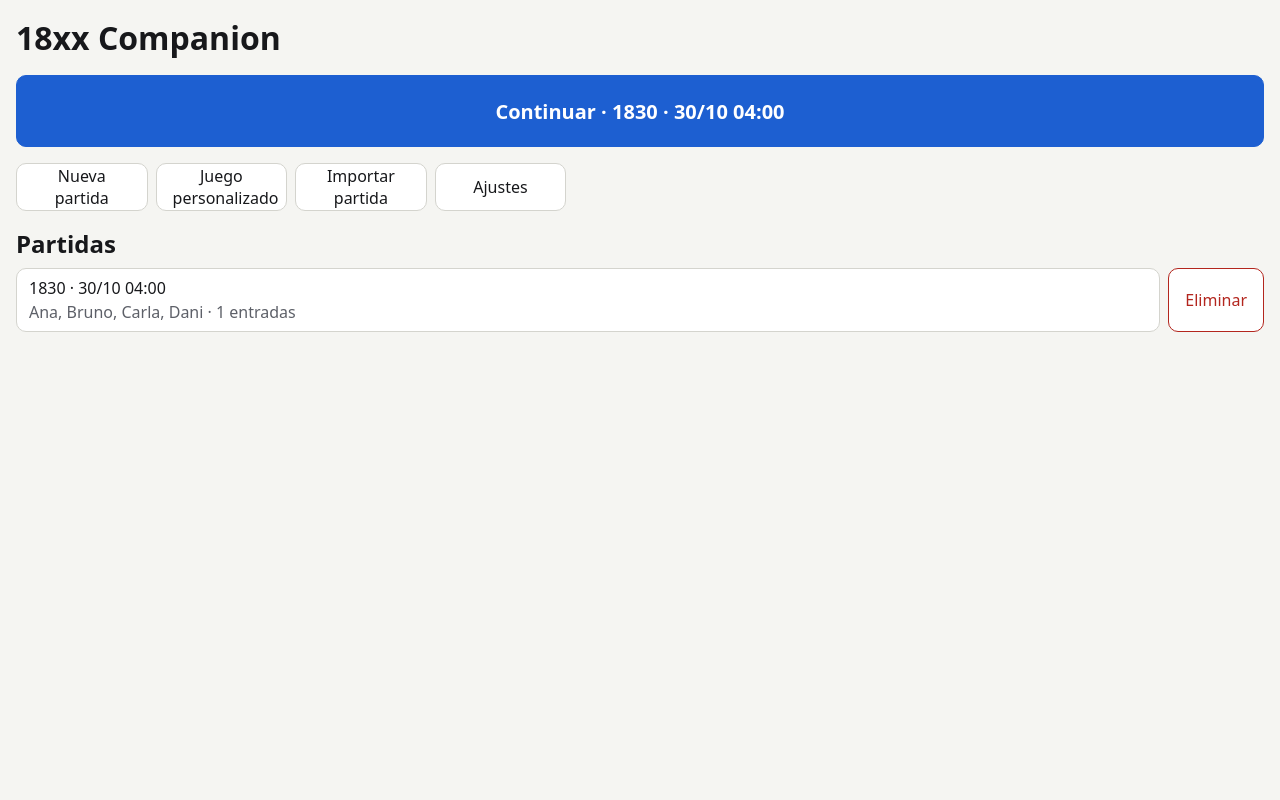
the chip editor without labels (feature 008, US2) › US2-1: each row has Valor and Cantidad (∞ when empty), and no Etiqueta
What coordinates should you click on to do the following:
click the button "Continuar · 1830 · 30/10 04:00"
I would click on:
 (640, 111)
Its box is left=16, top=75, right=1264, bottom=147.
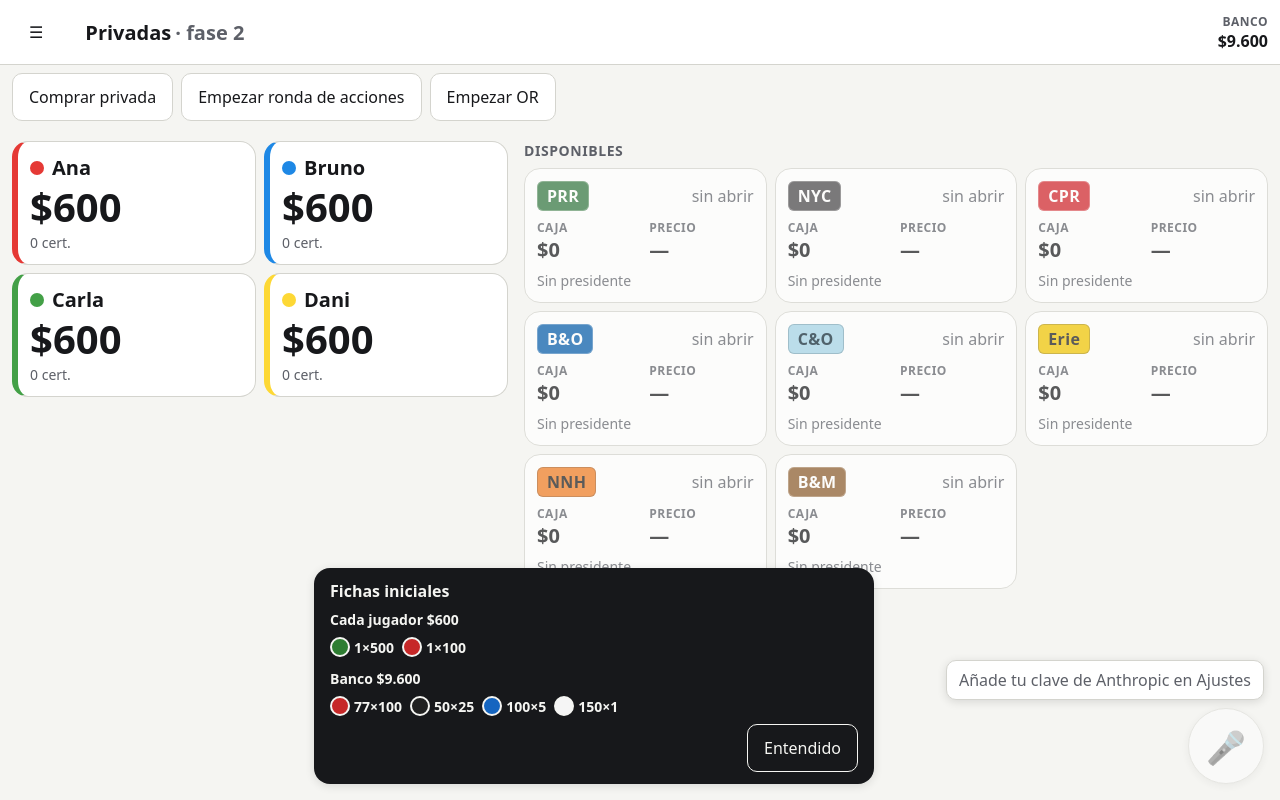
Result: the button named "Menú" is shown
What coordinates should you click on to do the following:
click the button named "Menú"
I would click on:
 (36, 32)
Its box is left=12, top=8, right=60, bottom=56.
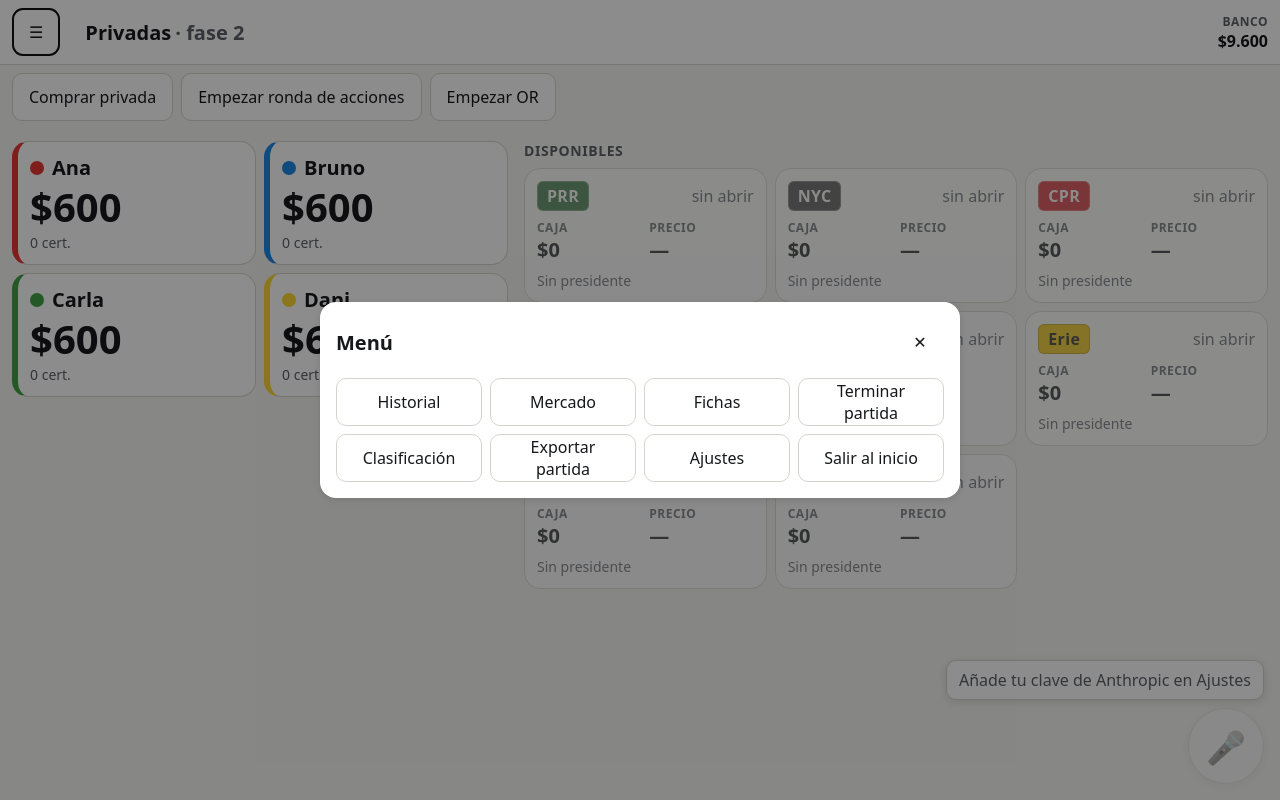
What coordinates should you click on to do the following:
click the button "Fichas"
I would click on:
 (717, 402)
Its box is left=644, top=378, right=790, bottom=426.
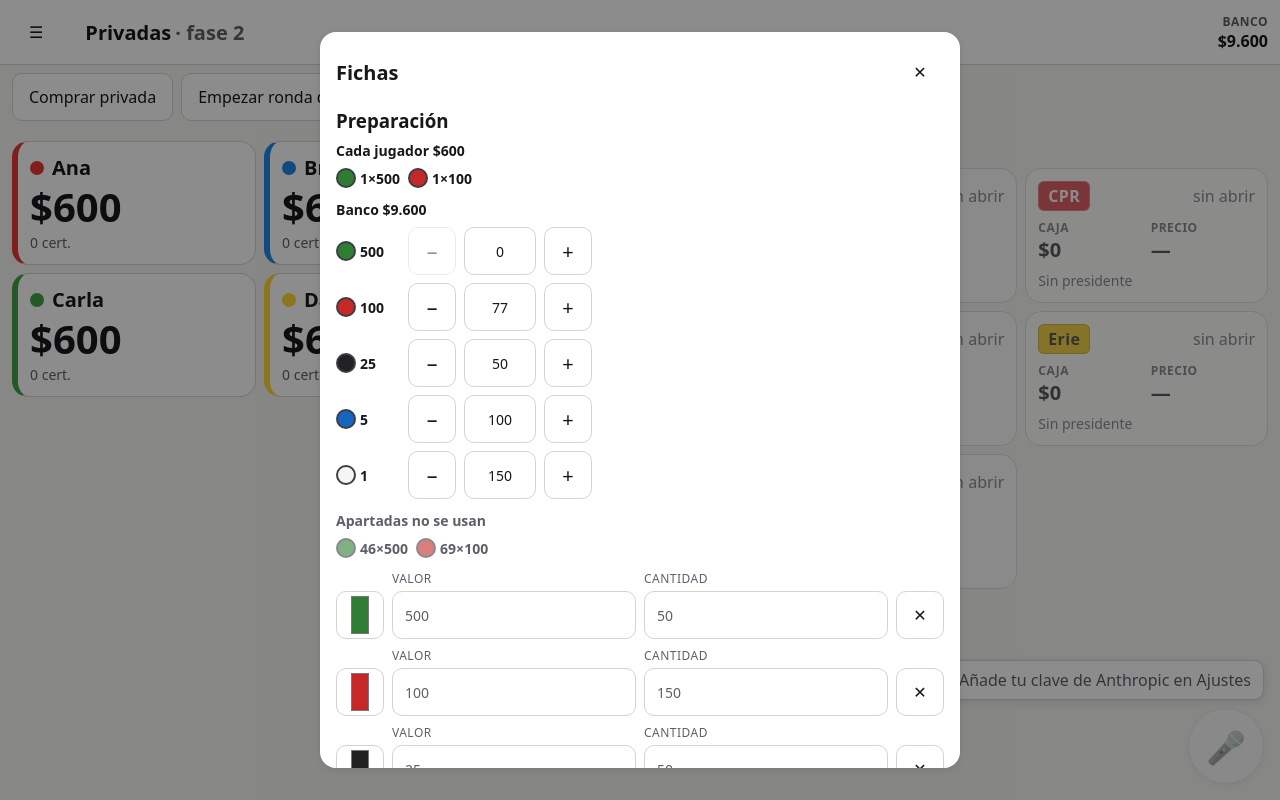
Result: the text "Valor" is shown 5 times
